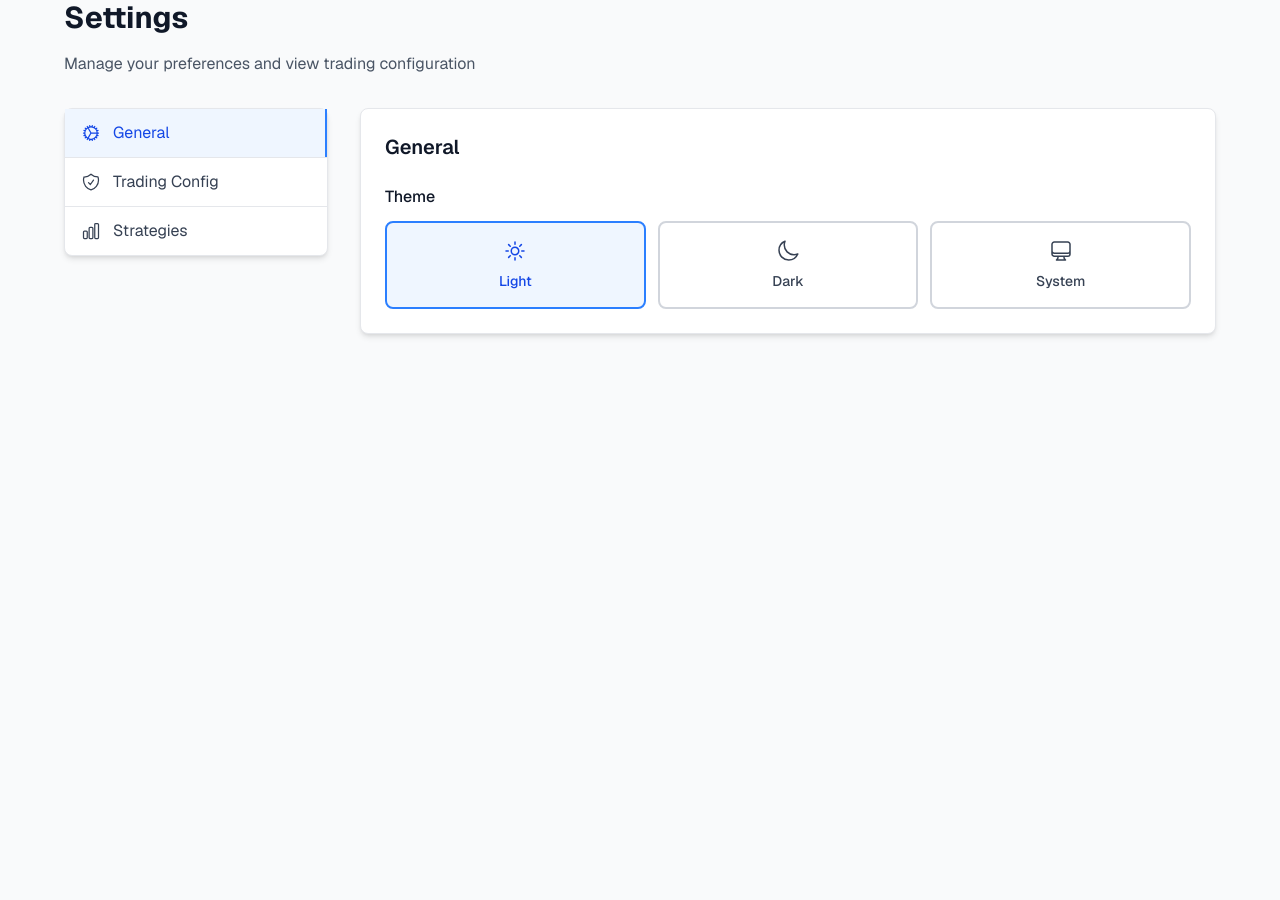
Settings Page › opens strategy modal on row click
Step 1. Click the button "Strategies" → coordinates (150, 230), box [65,207,327,255]
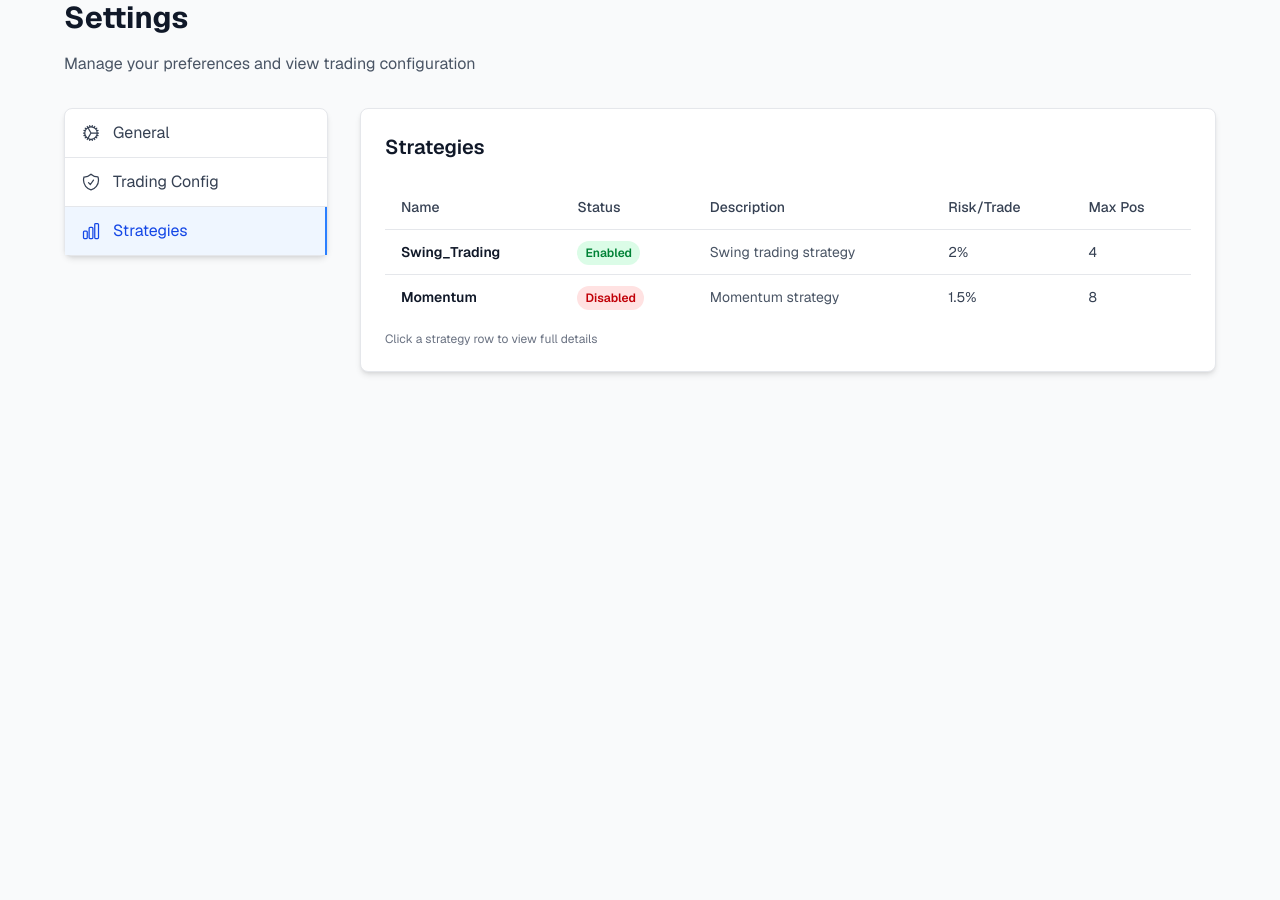
Result: the text "Swing_Trading" is shown
Step 2. Click the text "Swing_Trading" → coordinates (473, 252), box [385,230,562,274]
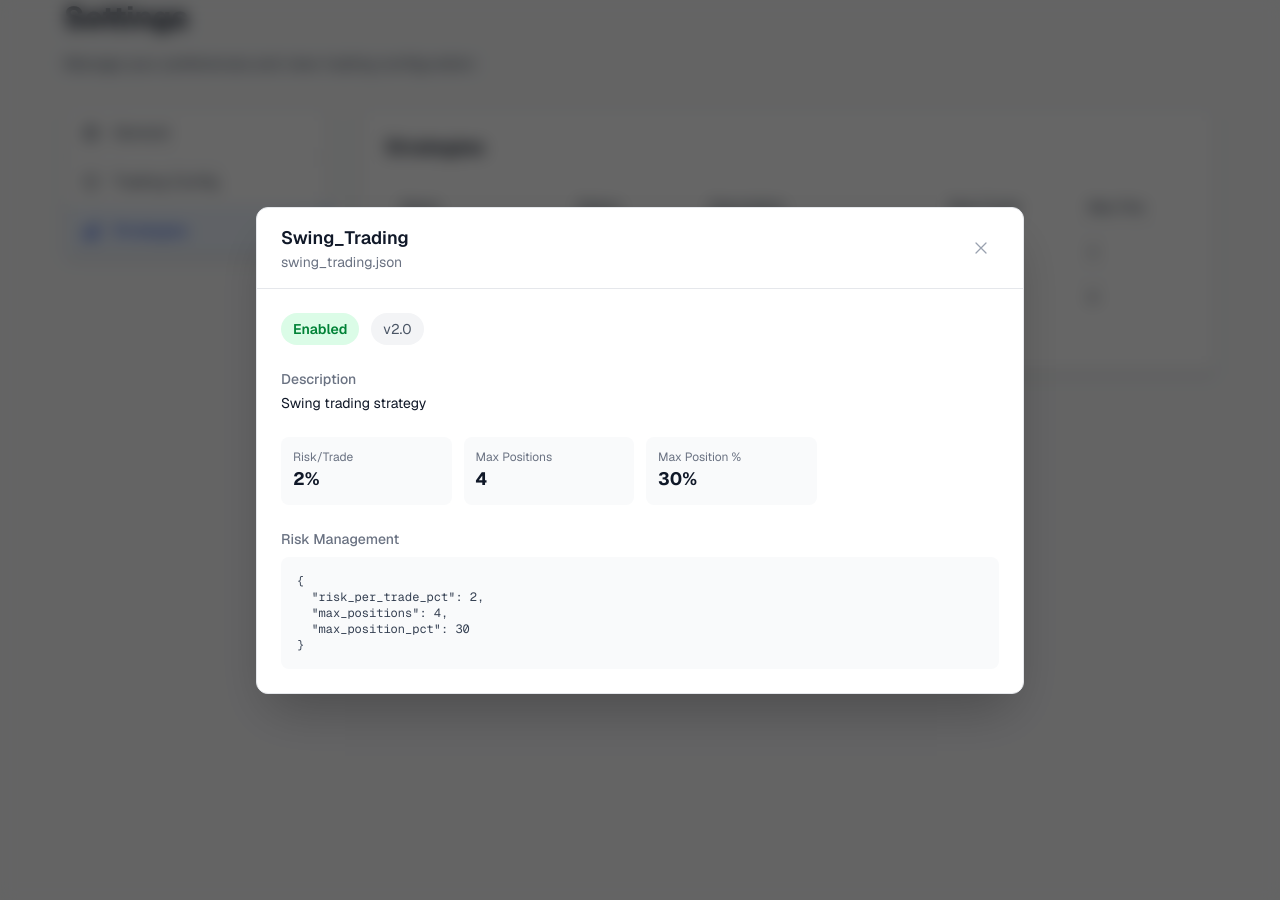
Result: the text "swing_trading.json" is shown at [281,252,409,272]
